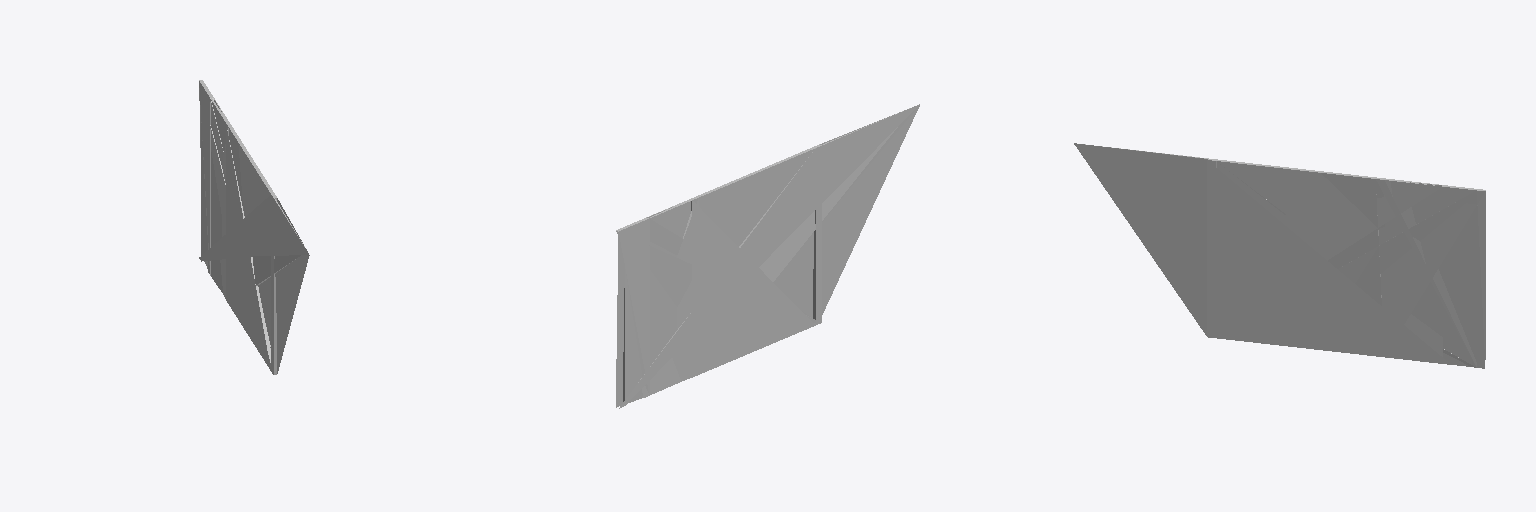
Rendered from table_tennis_table.obj.
The picture shows the model from 3 angles: view 1: azimuth 30°, elevation 25°; view 2: azimuth 150°, elevation 25°; view 3: azimuth 270°, elevation 25°; orthographic projection.
Parts seen in each view (by area): view 1: Box123, Box124; view 2: Box123, Box124; view 3: Box123.
Part boxes in pixels (x1,y1,x2,y2): Box123: (199,80,309,373); Box124: (271,194,276,374); Box123: (616,104,919,408); Box124: (813,144,821,324); Box123: (1074,143,1485,368).
Size of the model in its own units: 10408 by 17811 by 37572.